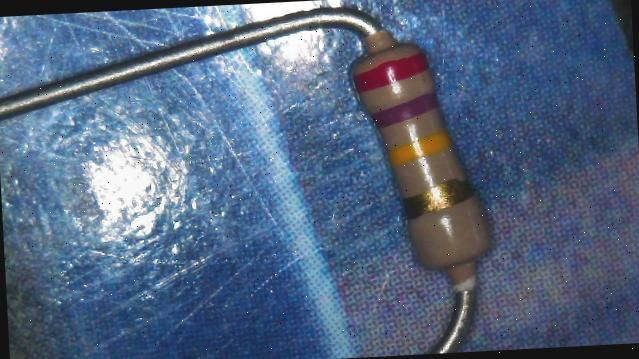gold: (402, 177, 473, 219)
red: (352, 52, 430, 92)
resistor: (322, 18, 522, 293)
violet: (368, 92, 438, 128)
yellow: (386, 130, 451, 166)
